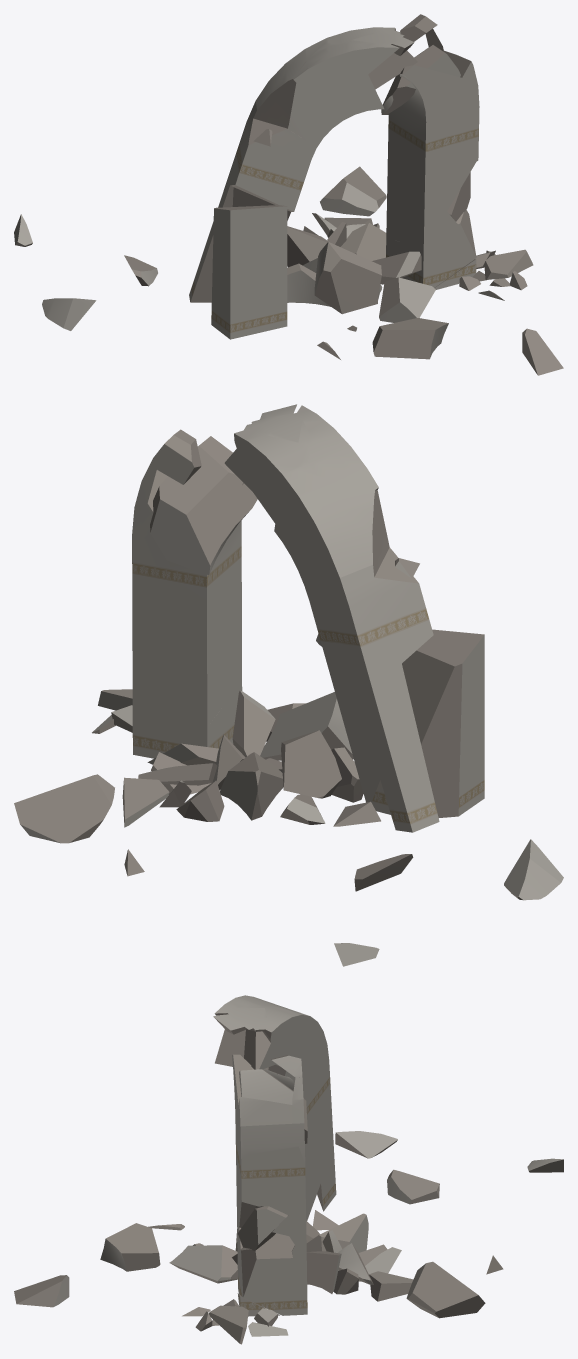
File: arc.gltf
The picture shows the model from 3 angles, top to bottom: view 1: azimuth 30°, elevation 25°; view 2: azimuth 150°, elevation 25°; view 3: azimuth 270°, elevation 25°; orthographic projection. The views are drawn at different scales.
Parts seen in each view (by area): view 1: arc; view 2: arc; view 3: arc.
Boxes of the visible parts, left/top/right/bottom form: arc: left=14, top=14, right=563, bottom=375; arc: left=14, top=404, right=563, bottom=966; arc: left=14, top=995, right=563, bottom=1344.
Bounding box in the file's own units: 8.95 × 5.4 × 10.28.
Materials: 1 (1 with a texture image).
